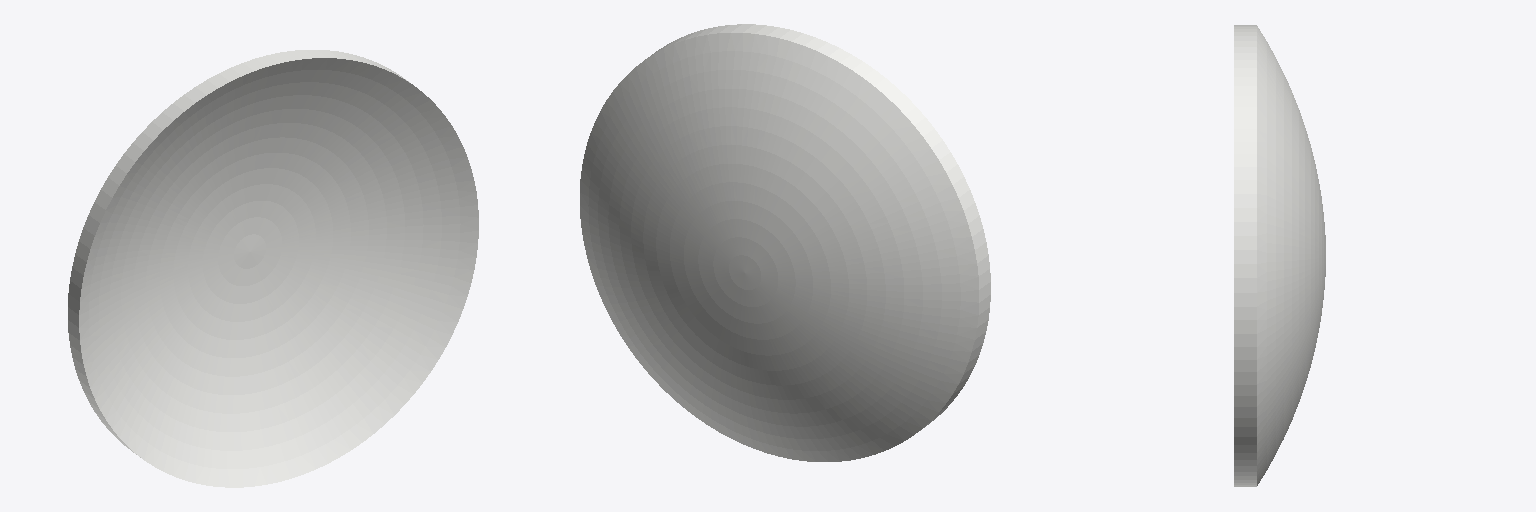
Rendered from bottom_lens.obj.
3 renders of one model, left to right at view 1: azimuth 30°, elevation 25°; view 2: azimuth 150°, elevation 25°; view 3: azimuth 270°, elevation 25°, orthographic.
Visible parts, largest first — view 1: MeshBody3; view 2: MeshBody3; view 3: MeshBody3.
Boxes of the visible parts, <box> form: MeshBody3: <box>68,50,478,487</box>; MeshBody3: <box>580,24,990,461</box>; MeshBody3: <box>1234,25,1325,486</box>.
Bounding box in the file's own units: 2 × 2 × 0.4.